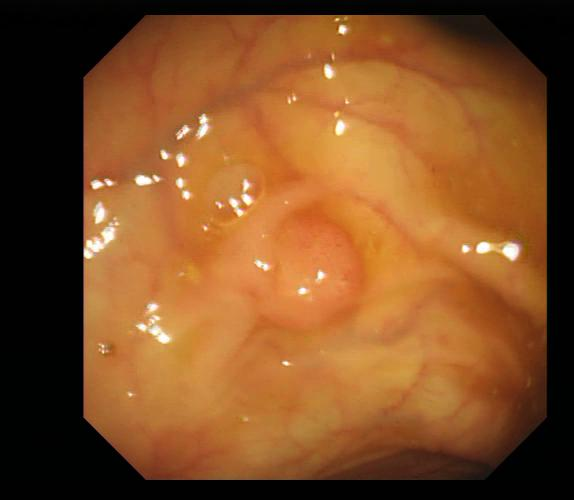polyp: (258, 209, 367, 330)
